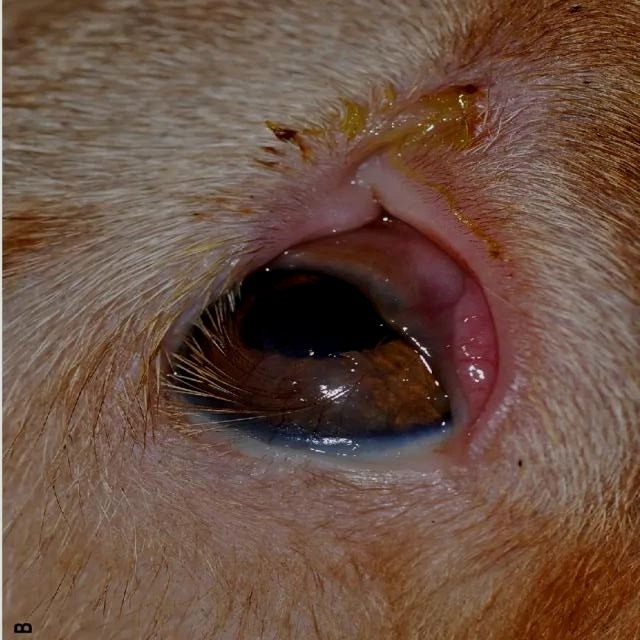eye_infection: (147, 183, 527, 477)
